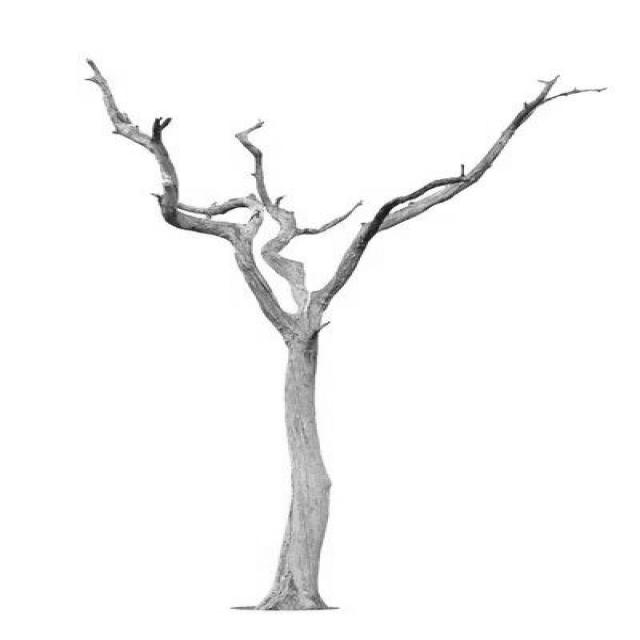Tree: (87, 59, 602, 610)
